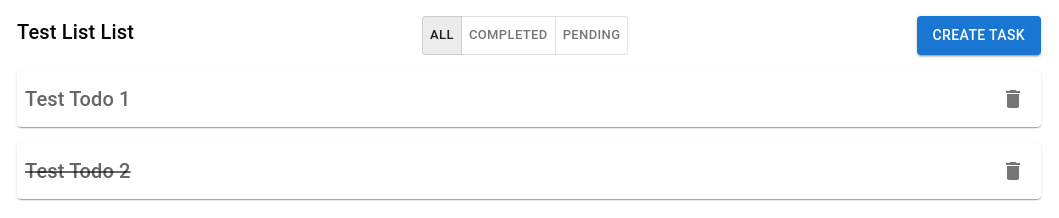
Test: TodoListPage › filters todos correctly
Step 1. Click the button with test id "filter-toggle-pending" → (592, 35), box [555,16,628,55]
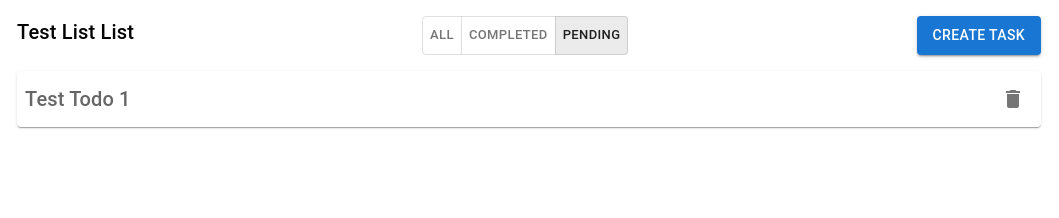
Expected: the heading "Test Todo 1" is shown, [25,83,131,115]
Now the heading "Test Todo 2" is gone
Step 2. Click the button with test id "filter-toggle-completed" → (508, 35), box [461,16,556,55]
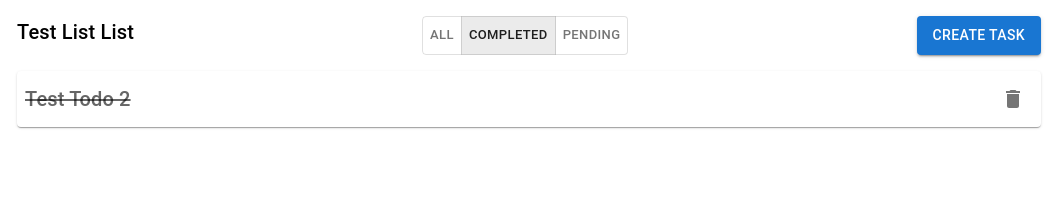
Now the heading "Test Todo 2" is shown, box [25,83,131,115]
Now the heading "Test Todo 1" is gone
